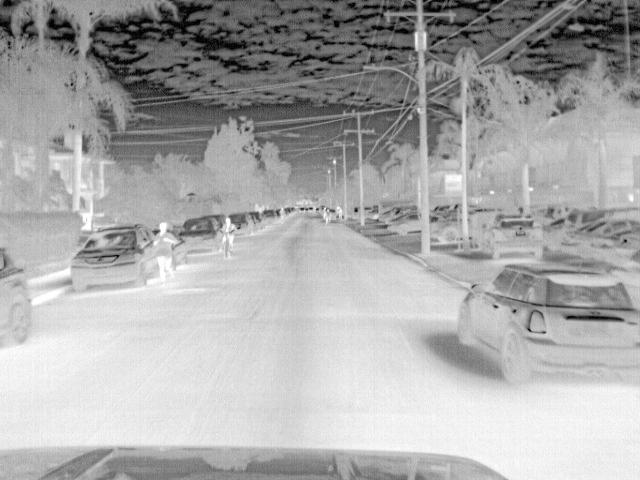car: (451, 264, 638, 388), (68, 223, 155, 290), (0, 249, 37, 352), (476, 213, 545, 259), (561, 218, 638, 259), (178, 216, 223, 252), (430, 218, 458, 246), (384, 213, 418, 235), (225, 212, 254, 233), (260, 209, 277, 224), (362, 208, 379, 220)
person: (152, 220, 179, 278), (220, 214, 238, 251)
